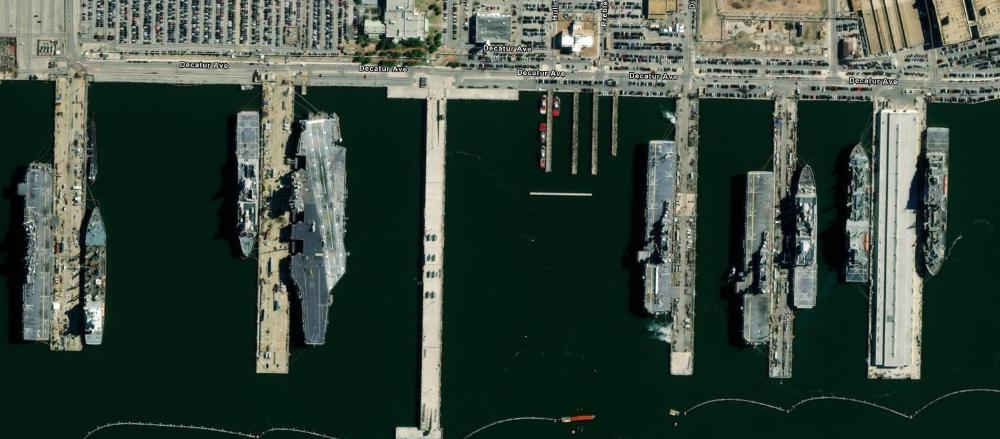pha: (16, 160, 64, 346), (742, 166, 782, 351), (646, 136, 681, 322)
submarine: (85, 108, 99, 186)
supply: (790, 159, 820, 310)
tender: (924, 121, 952, 278), (844, 138, 871, 291), (82, 204, 106, 352)
